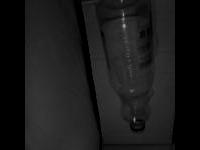bottle: (97, 0, 158, 131)
